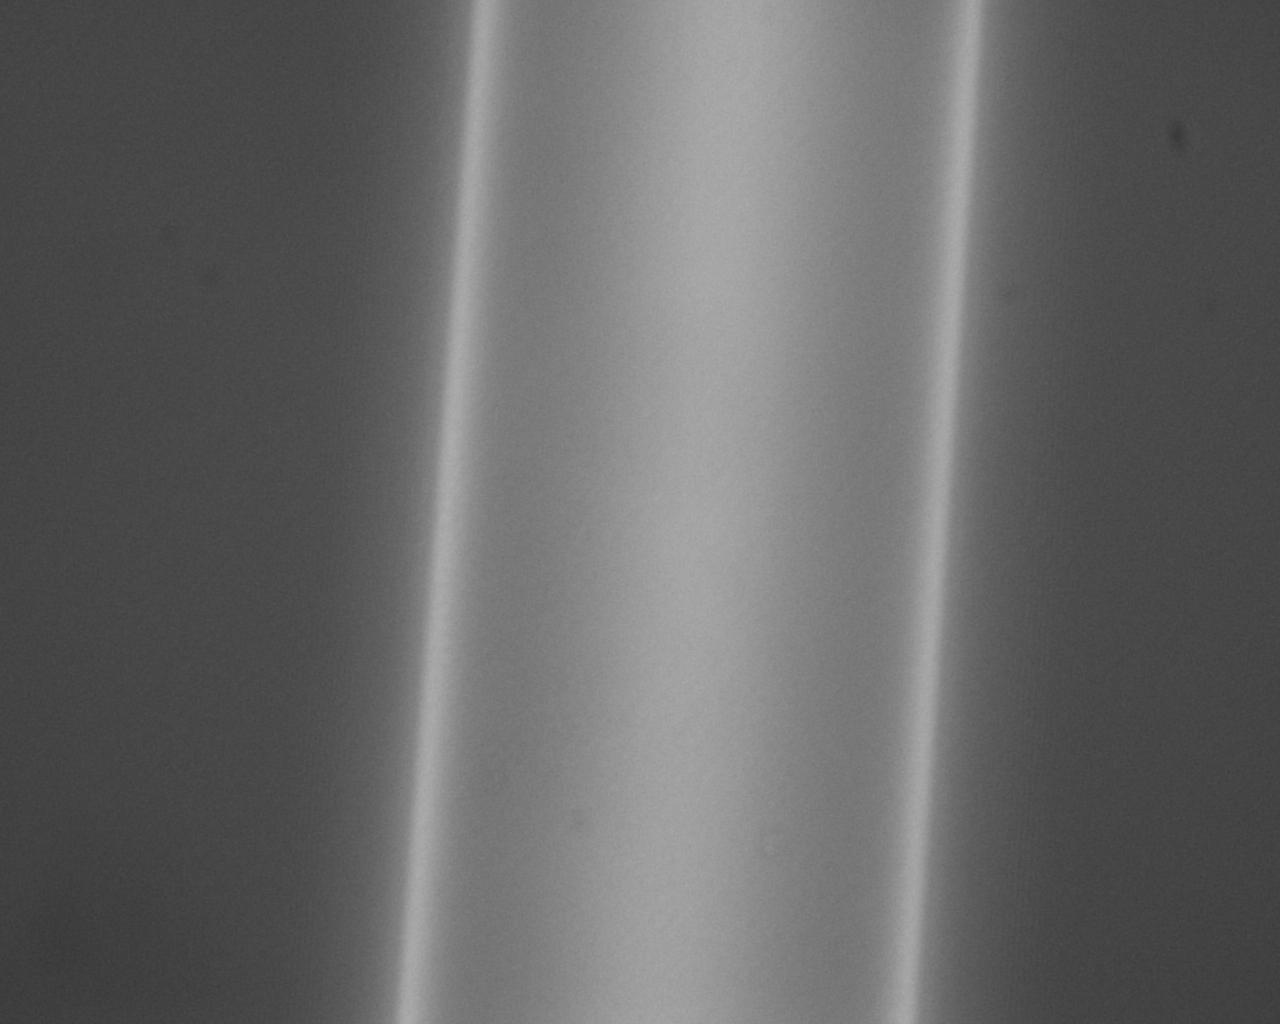fiber: (143, 0, 389, 532), (793, 64, 1280, 249), (1126, 532, 1226, 1024), (601, 532, 651, 1024)
